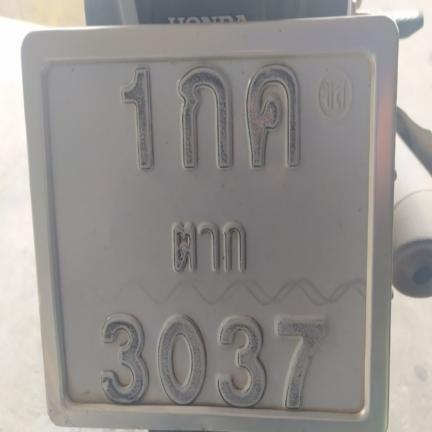0: (154, 307, 209, 405)
1: (111, 66, 163, 170)
3: (89, 304, 149, 406), (215, 304, 268, 411)
7: (273, 308, 329, 413)
A01: (170, 63, 234, 173)
A04: (238, 61, 304, 172)
TAK: (164, 211, 250, 278)
